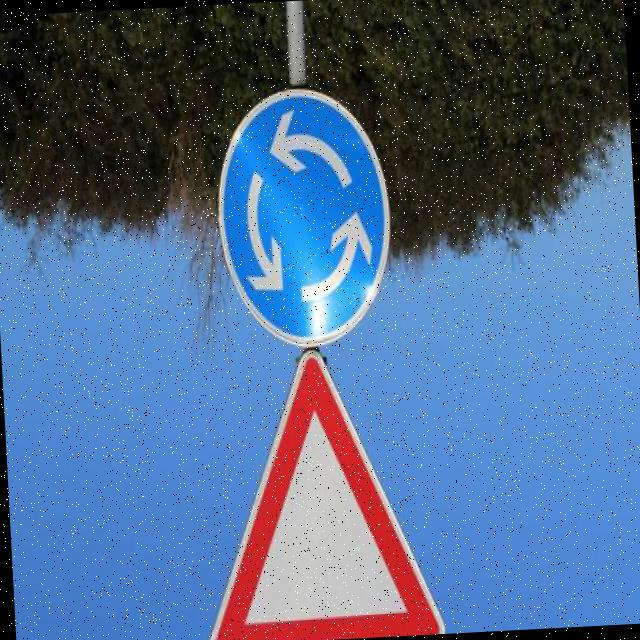round_about: (209, 83, 397, 354)
